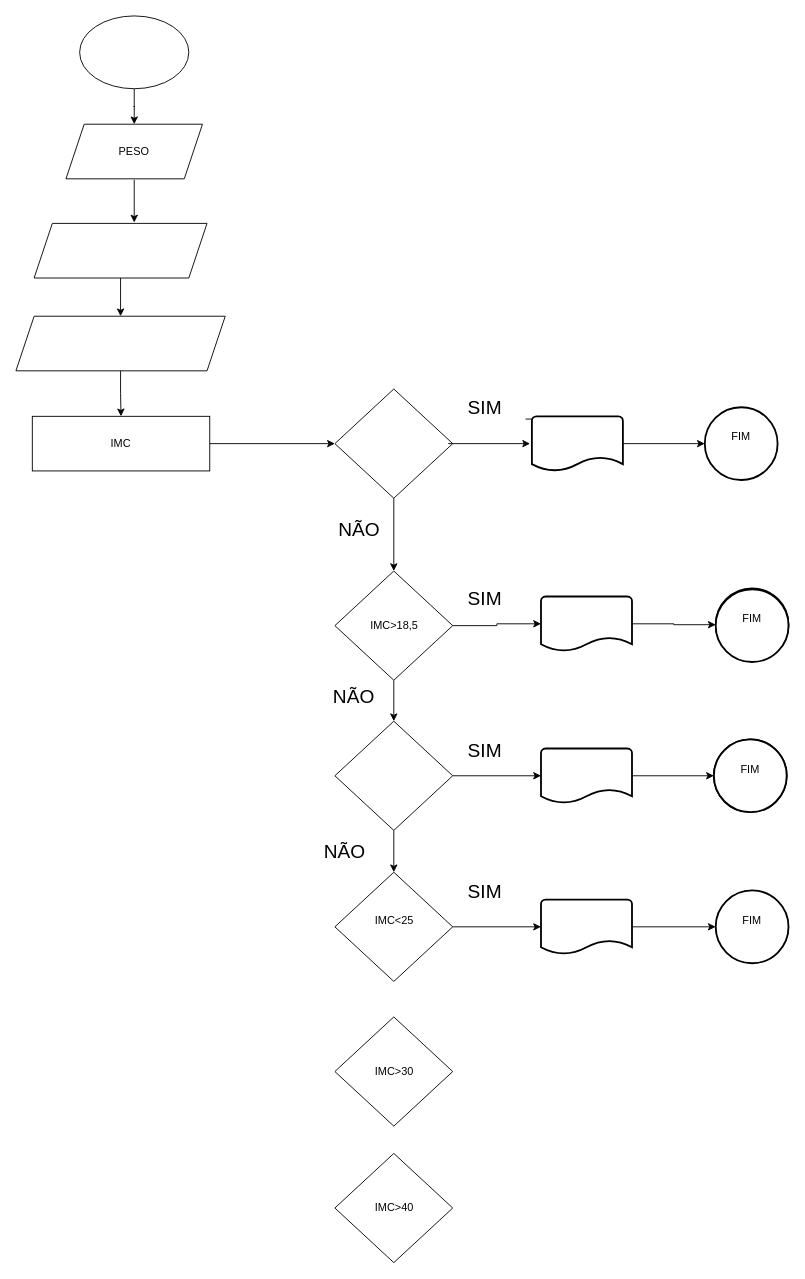
Some shapes in this 805 by 1279 pixel diagram are drawn without their labels. Each missing label, with the centre of its shape:
"ALTURA" goes at [120,250].
"IMC<18,5" goes at [393,443].
"IMC=PESO / (ALTURA * ALTURA)" goes at [120,343].
"IMC>25" goes at [393,775].
"INICIO" goes at [134,52].
